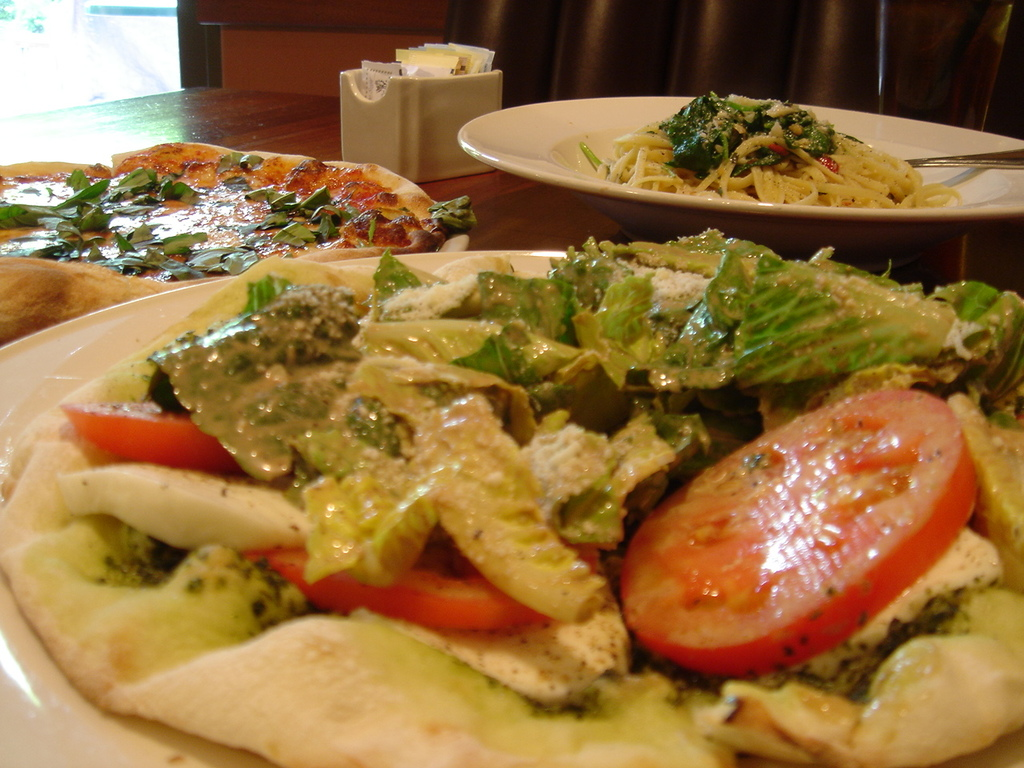salad: (0, 226, 1023, 767), (574, 82, 971, 222)
